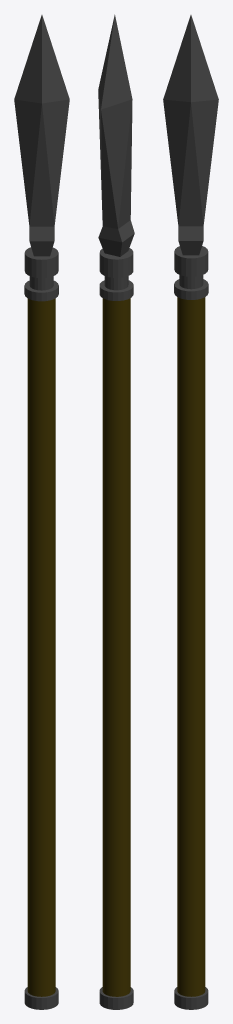
Rendered from Old Spear.fbx.
The picture shows the model from 3 angles, left to right: view 1: azimuth 90°, elevation 25°; view 2: azimuth 150°, elevation 25°; view 3: azimuth 270°, elevation 25°; orthographic projection.
Visible parts, largest first — view 1: pCylinder10, pPrism26; view 2: pCylinder10, pPrism26; view 3: pCylinder10, pPrism26.
Boxes of the visible parts, x1,y1,x2,y2 form: pCylinder10: (24, 247, 58, 1009); pPrism26: (14, 15, 69, 256); pCylinder10: (99, 248, 133, 1009); pPrism26: (98, 14, 134, 256); pCylinder10: (174, 246, 208, 1009); pPrism26: (163, 15, 218, 255).
Size of the model in its own units: 0.3639 by 10.01 by 0.5113.
